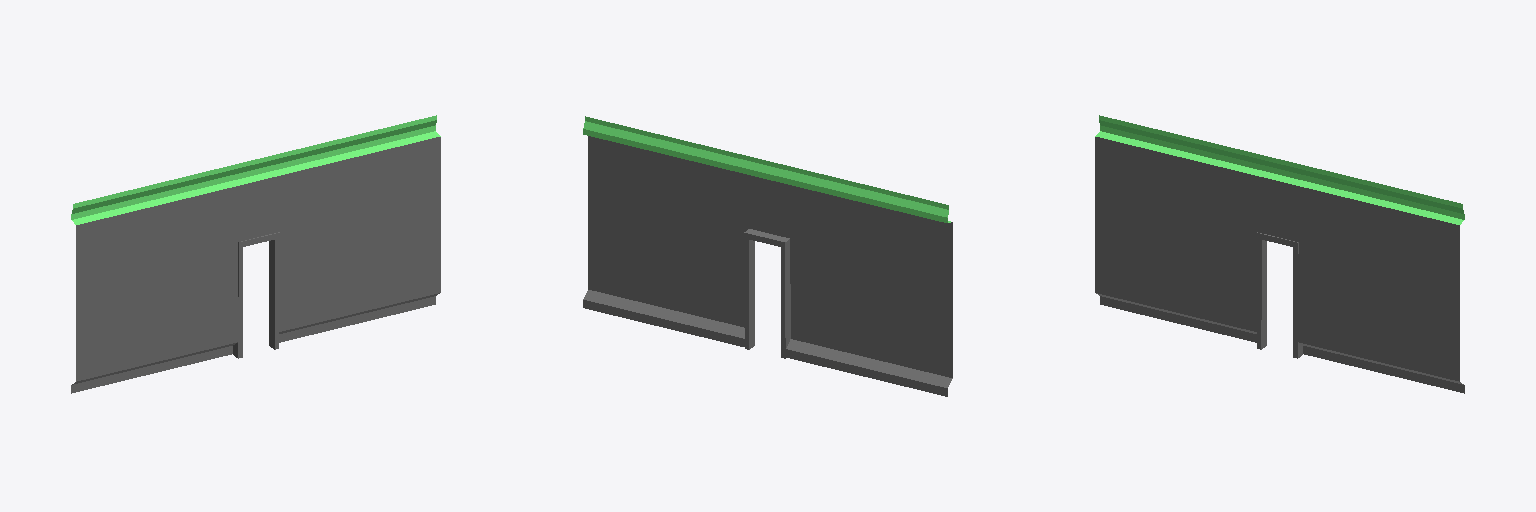
The model's file is Wall_withDoorFrame.obj.
The picture shows the model from 3 angles: view 1: azimuth 30°, elevation 25°; view 2: azimuth 150°, elevation 25°; view 3: azimuth 330°, elevation 25°; orthographic projection.
Visible parts, largest first — view 1: Wall_withDoorFrame.obj; view 2: Wall_withDoorFrame.obj; view 3: Wall_withDoorFrame.obj.
Boxes of the visible parts, box(x1,y1,x2,y2) form: Wall_withDoorFrame.obj: box(71, 115, 440, 393); Wall_withDoorFrame.obj: box(583, 116, 952, 396); Wall_withDoorFrame.obj: box(1095, 115, 1464, 393).
Size of the model in its own units: 2000 by 1005 by 55.4.